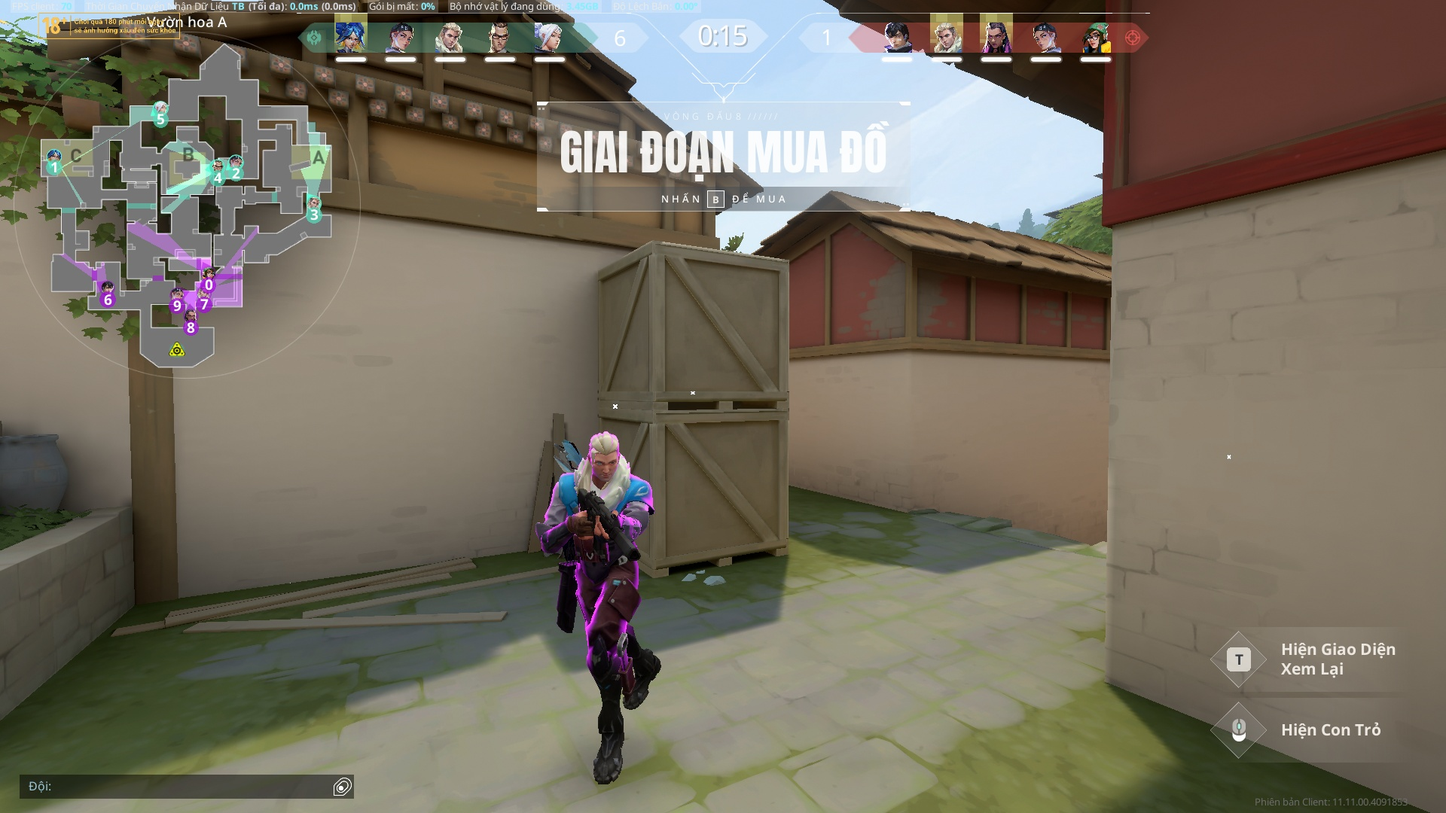body: (557, 468, 648, 547)
head: (587, 436, 622, 476)
